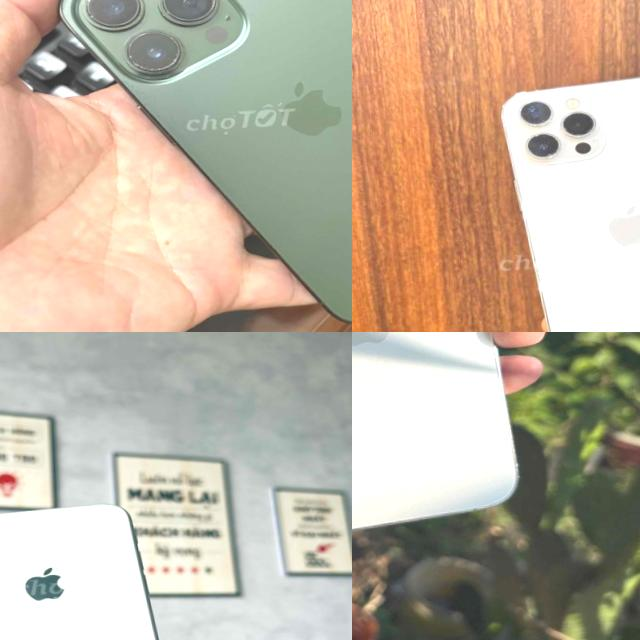gen_12_13: (52, 0, 352, 332), (494, 70, 640, 332)
gen_14: (352, 332, 529, 547)
gen_x_xs: (0, 492, 213, 640)
